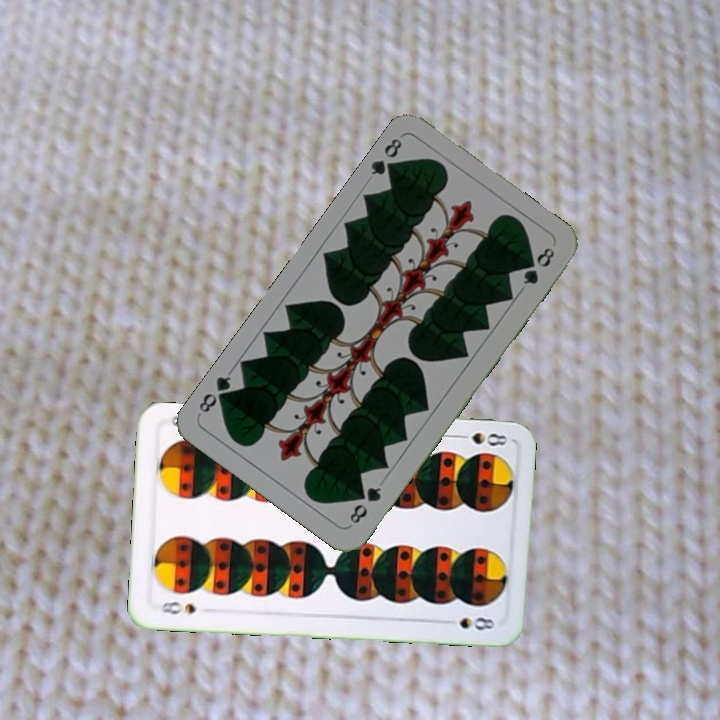G8: (366, 134, 405, 180), (345, 483, 384, 527)
S8: (451, 428, 509, 449), (157, 597, 199, 618)
